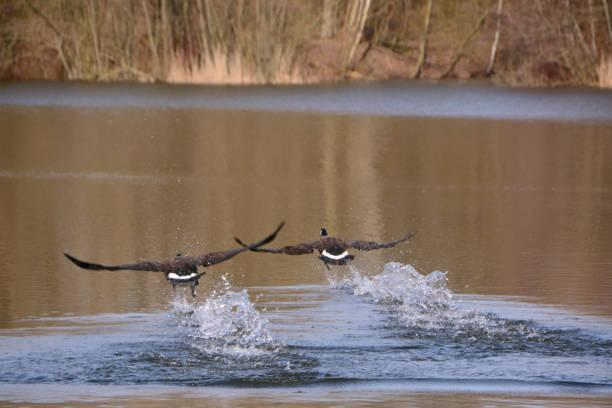Canadian-Goose: (64, 221, 286, 287), (229, 222, 415, 268)
